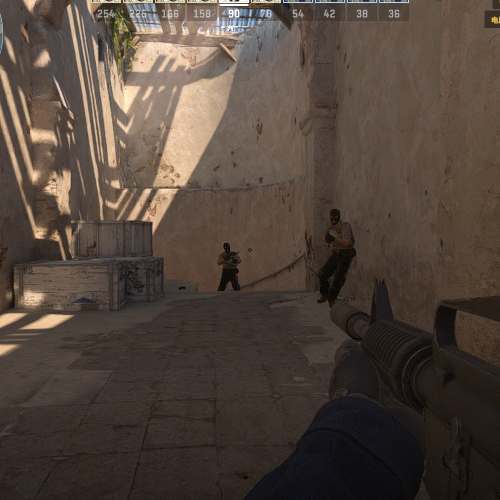t_body: (319, 209, 356, 306), (217, 242, 242, 291)
t_head: (328, 209, 342, 226), (222, 242, 231, 253)
